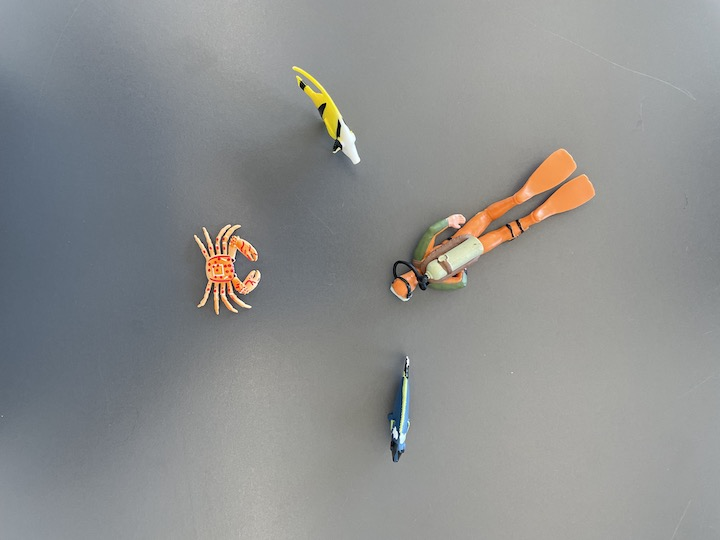crab: (192, 221, 262, 319)
danger: (288, 63, 365, 170)
diver: (384, 146, 600, 304)
fish: (385, 352, 414, 465)
